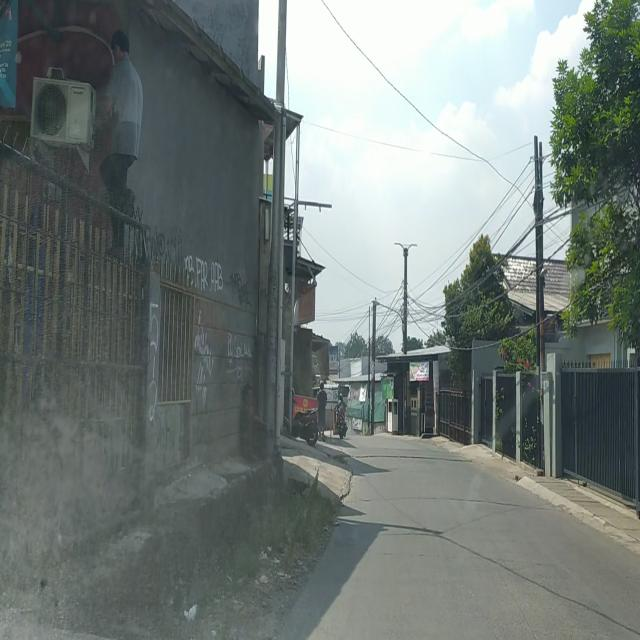Sewer Cover: (359, 496, 549, 508)
